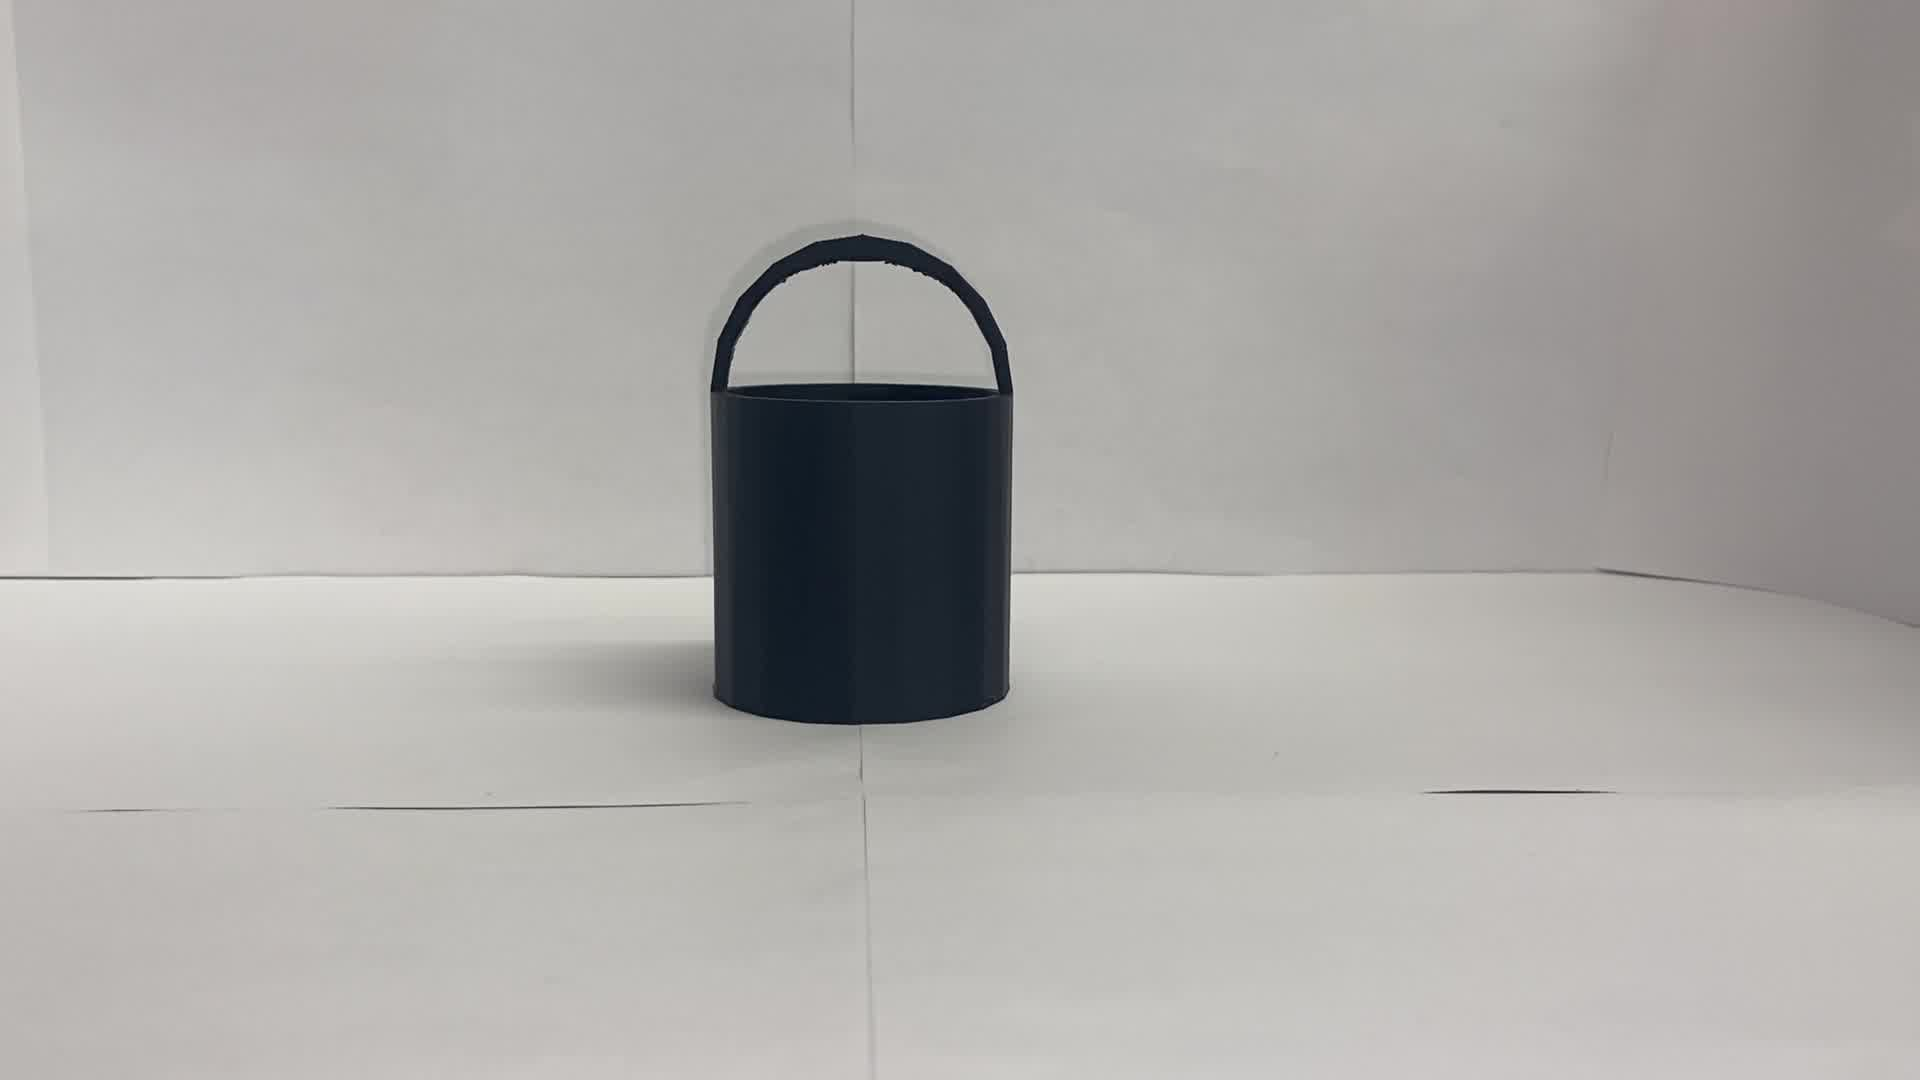bag: (699, 225, 1025, 728)
